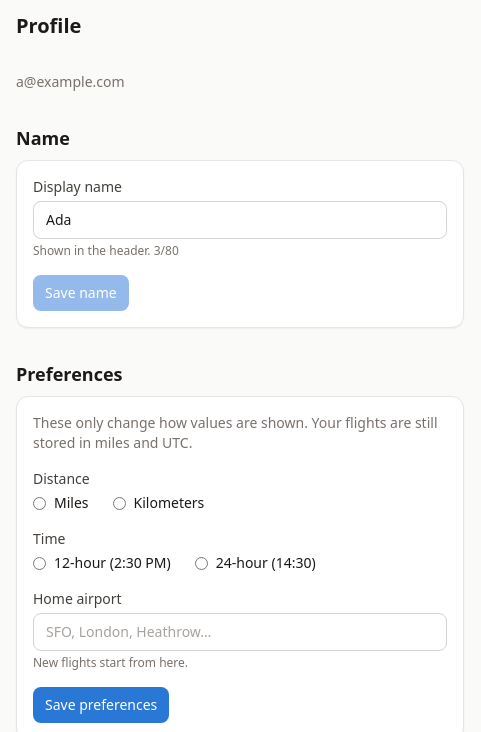
Test: ProfilePage › saves a trimmed name and shows success
Replace the text in the field labelled "Display name" with "  Ada L.  ": (240, 220) [33,201,447,239]
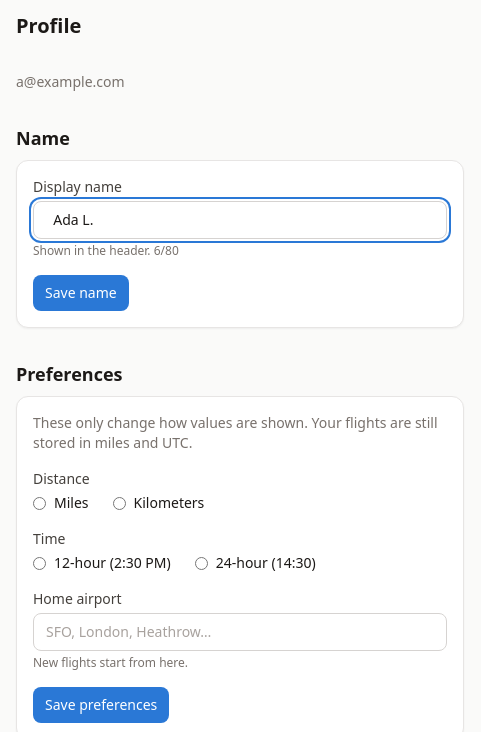
Click the button "Save name": (81, 293) [33,275,129,311]
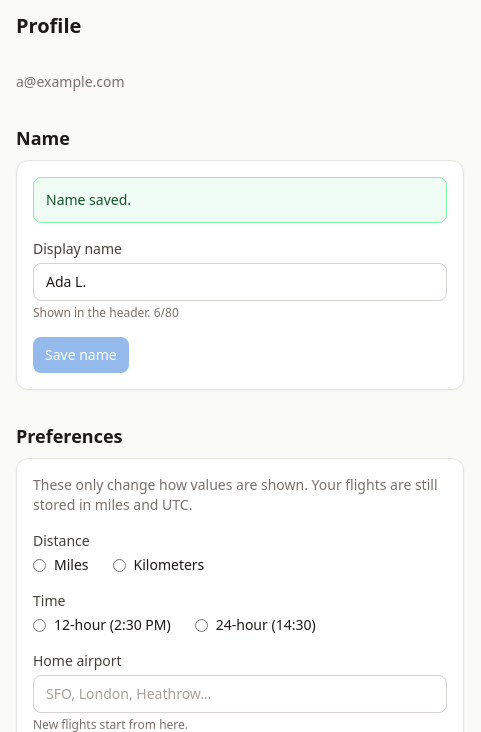
Check: the message reads "Name saved.", box [46,190,131,209]
